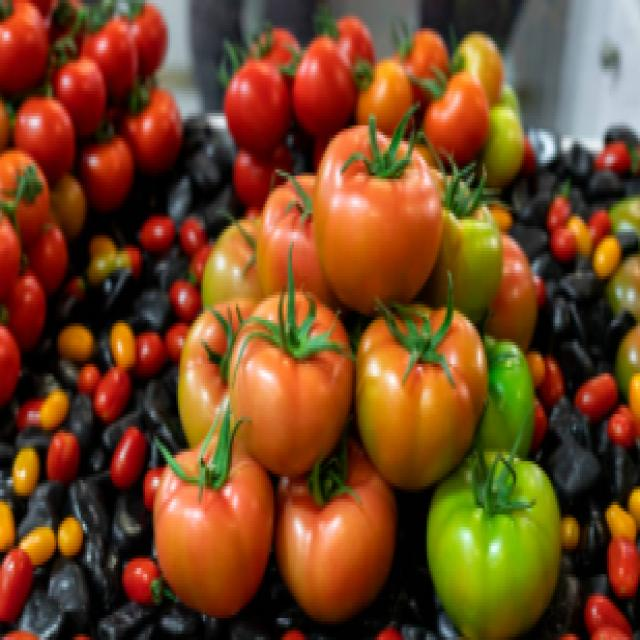Tomato: (144, 432, 279, 635), (360, 281, 495, 480), (312, 108, 441, 310), (230, 275, 365, 468)
